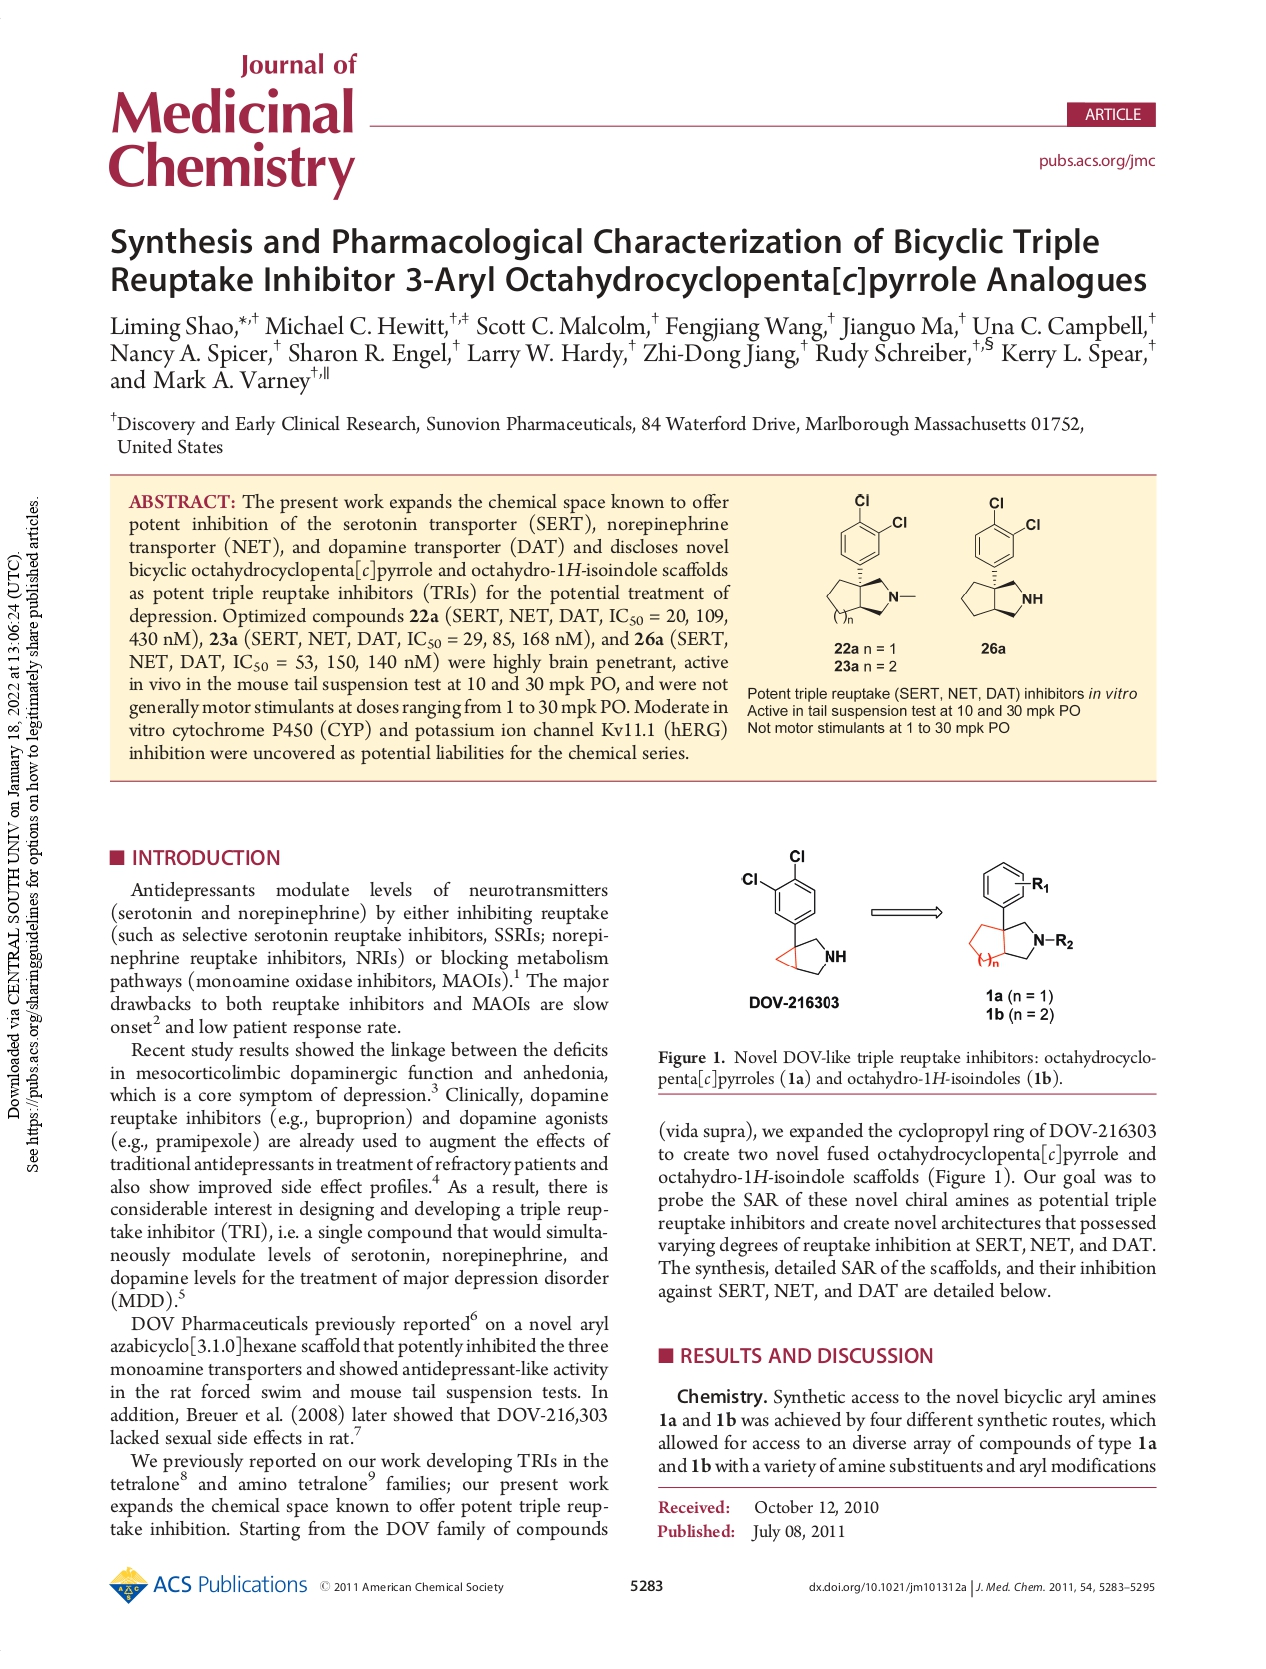exist_molecular: (739, 846, 848, 975), (819, 489, 919, 626), (965, 852, 1077, 968), (957, 492, 1049, 618)
